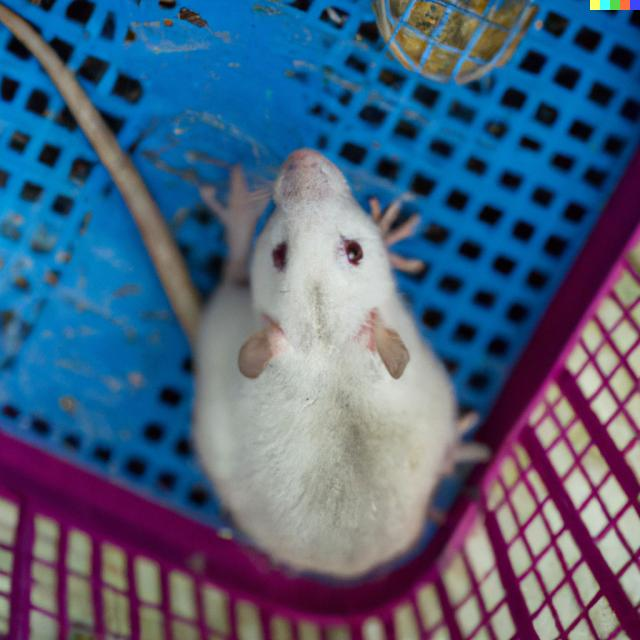rodent: (171, 137, 487, 591)
